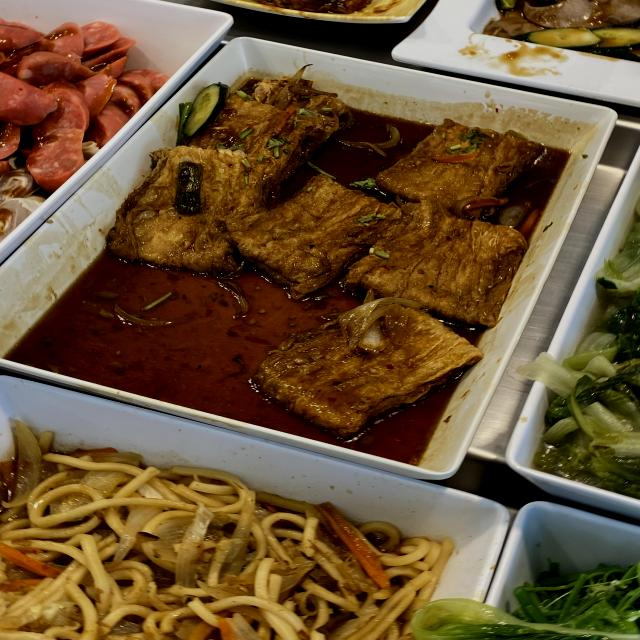bean bag: (190, 128, 475, 370)
